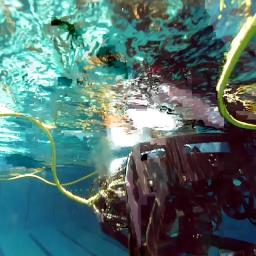Side: (91, 133, 256, 256)
